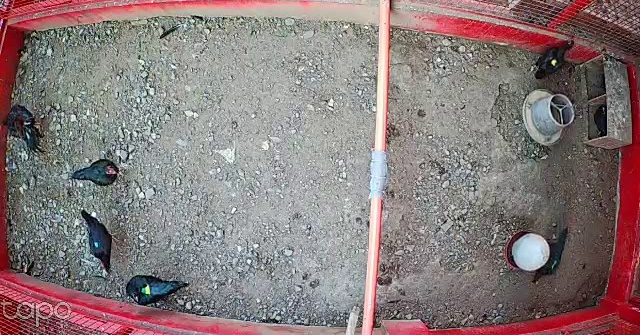Chicken: (124, 267, 192, 310), (82, 206, 119, 281), (531, 223, 573, 284), (71, 153, 126, 187), (530, 41, 575, 80)
Rooster: (0, 96, 46, 158)
Saddle_Color_Blue: (93, 241, 99, 248)
Saddle_Color_Yellow: (549, 57, 560, 65)
Saddle_Color_YellowGreen: (140, 281, 151, 295)
